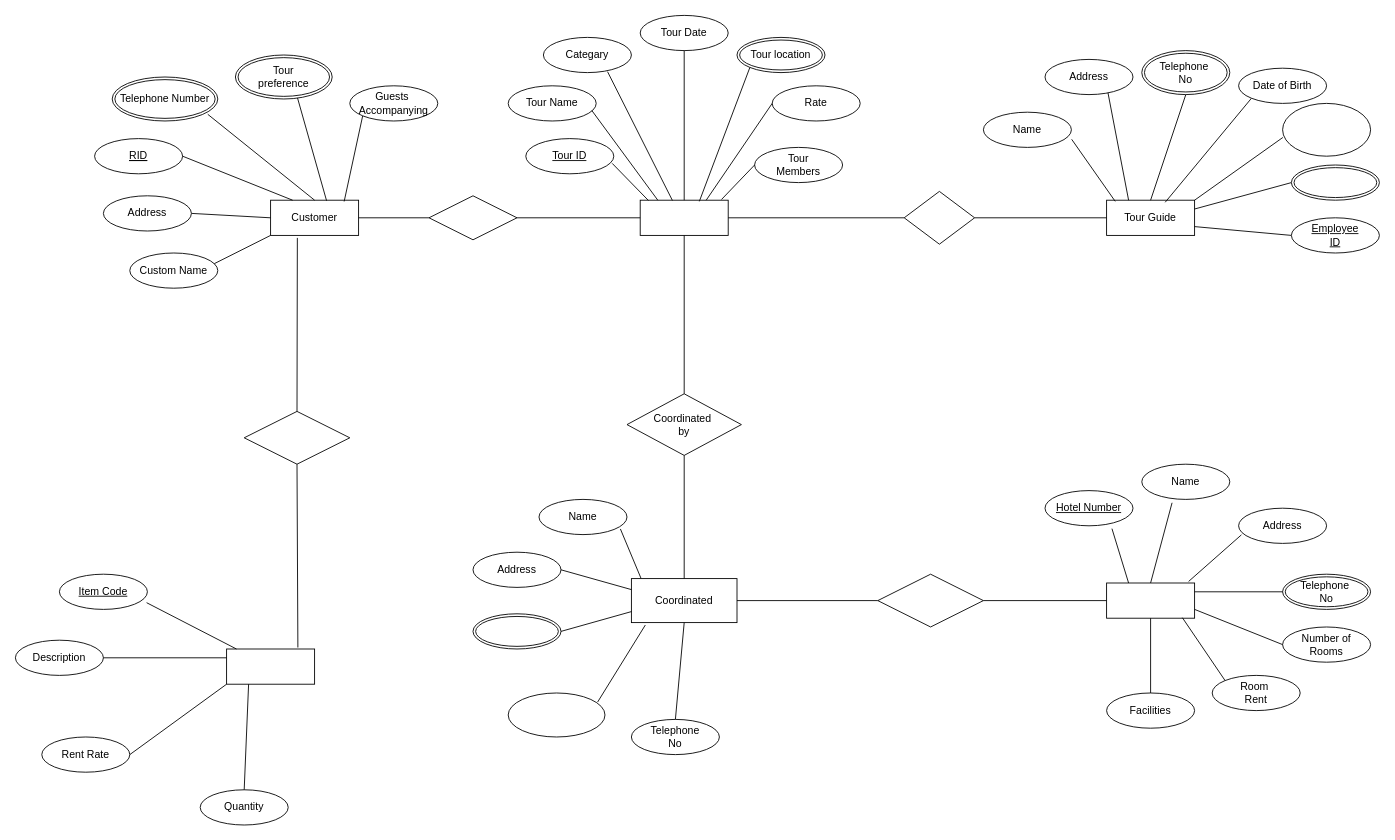
The diagram is 1395 pixels wide and 840 high, and some of its shapes have lost their labels. The centre of each missing label's shape, as x and y in pixels:
"books" belongs at point (472, 217).
"Coodinated ID" belongs at point (556, 714).
"Employee start Date" belongs at point (1326, 129).
"Equipment" belongs at point (270, 666).
"has" belongs at point (939, 217).
"Hotel" belongs at point (1150, 600).
"Qualifications" belongs at point (516, 631).
"Relationship" belongs at point (296, 437).
"Reservation" belongs at point (930, 600).
"Special Training" belongs at point (1335, 182).
"Tour" belongs at point (683, 217).
